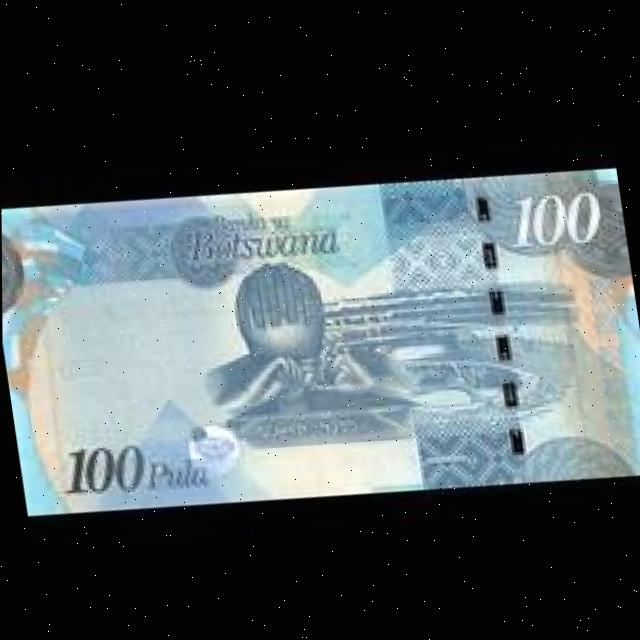banknote: (1, 120, 640, 551)
